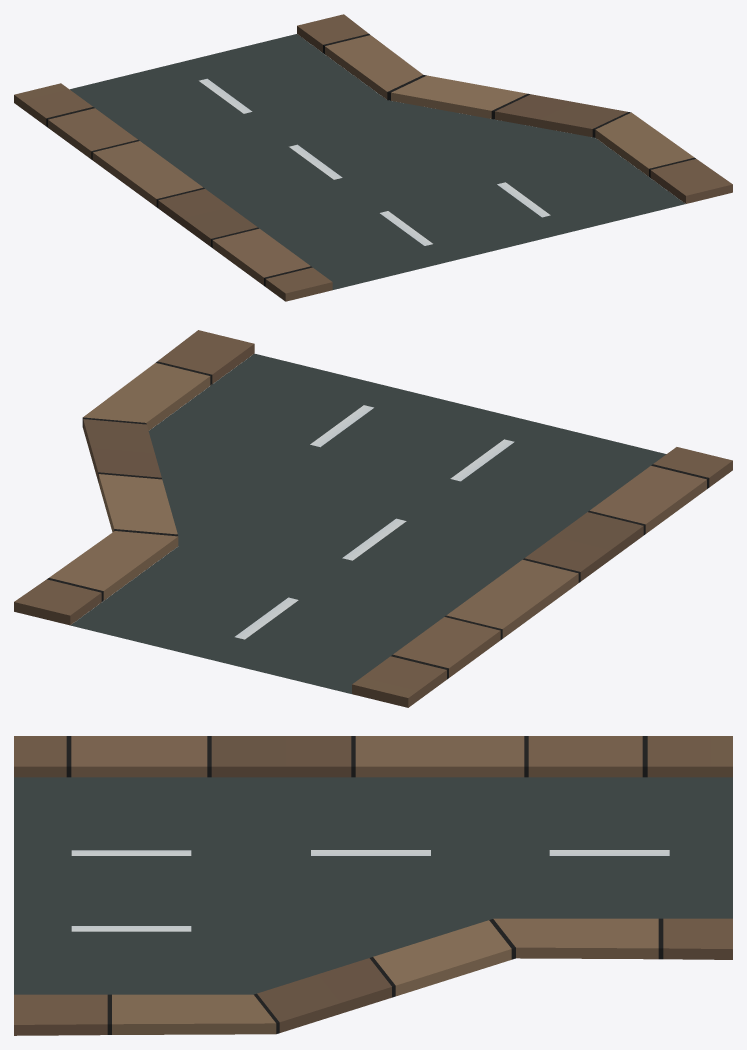
File: Road_1_303.fbx
The picture shows the model from 3 angles, top to bottom: view 1: azimuth 30°, elevation 25°; view 2: azimuth 150°, elevation 25°; view 3: azimuth 270°, elevation 25°; orthographic projection. The views are drawn at different scales.
Visible parts, largest first — view 1: Road_1_303; view 2: Road_1_303; view 3: Road_1_303.
Boxes of the visible parts, x1,y1,x2,y2 form: Road_1_303: (14,14,732,301); Road_1_303: (14,330,732,707); Road_1_303: (14,736,732,1035).
Size of the model in its own units: 1711 by 30 by 1800.
